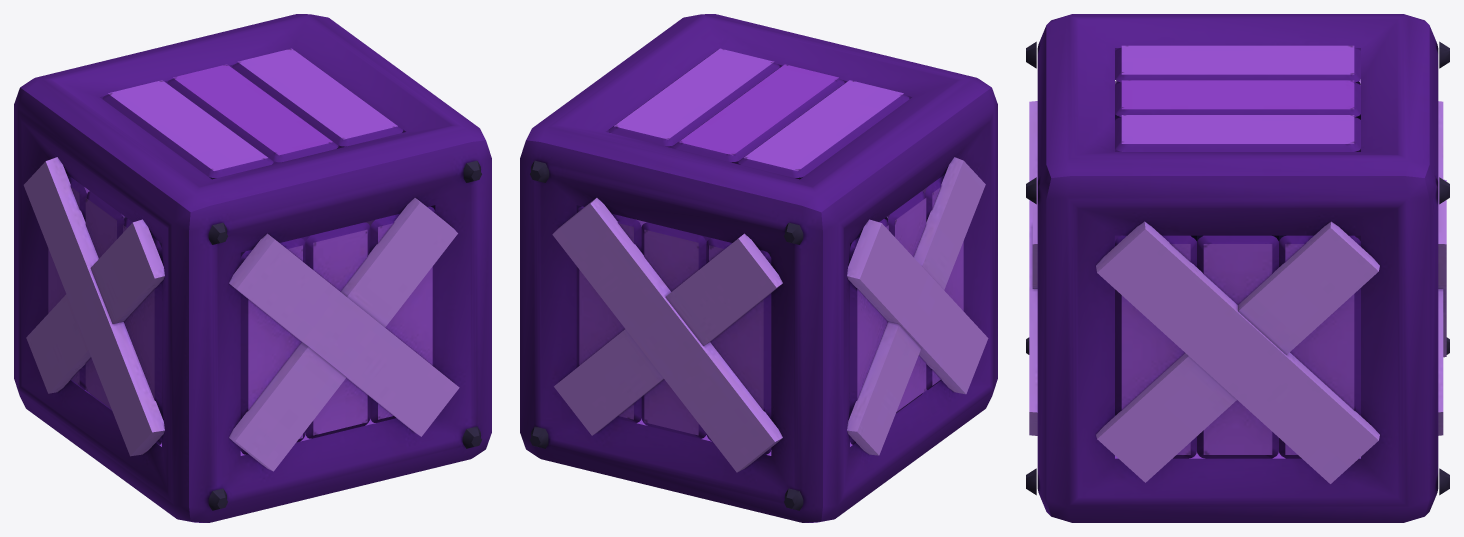
The model's file is sandik_m.glb.
3 views of the same model, side by side, from view 1: azimuth 30°, elevation 25°; view 2: azimuth 150°, elevation 25°; view 3: azimuth 270°, elevation 25° (orthographic). The views are drawn at different scales.
Parts seen in each view (by area): view 1: sandik_m; view 2: sandik_m; view 3: sandik_m.
Part boxes in pixels (<box>): sandik_m: <box>14,14,491,522</box>; sandik_m: <box>520,14,997,522</box>; sandik_m: <box>1026,14,1449,522</box>.
Bounding box in the file's own units: 1.59 × 1.53 × 1.62.
Materials: 1 (1 with a texture image).
